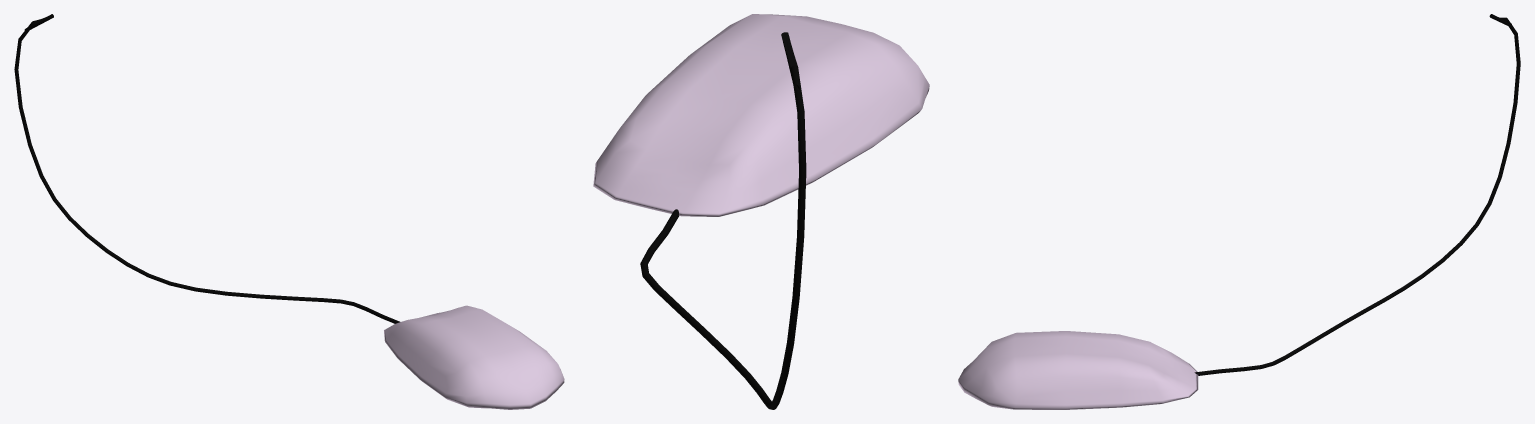
Rendered from mouse_and_wire.fbx.
3 renders of one model, left to right at view 1: azimuth 30°, elevation 25°; view 2: azimuth 150°, elevation 25°; view 3: azimuth 270°, elevation 25°, orthographic. The views are drawn at different scales.
Visible parts, largest first — view 1: pCube96; view 2: pCube96; view 3: pCube96.
Boxes of the visible parts, bbox=[...] form: pCube96: bbox=[14, 14, 564, 409]; pCube96: bbox=[593, 14, 929, 409]; pCube96: bbox=[958, 14, 1520, 409].
Size of the model in its own units: 0.5542 by 0.4625 by 0.8817.
